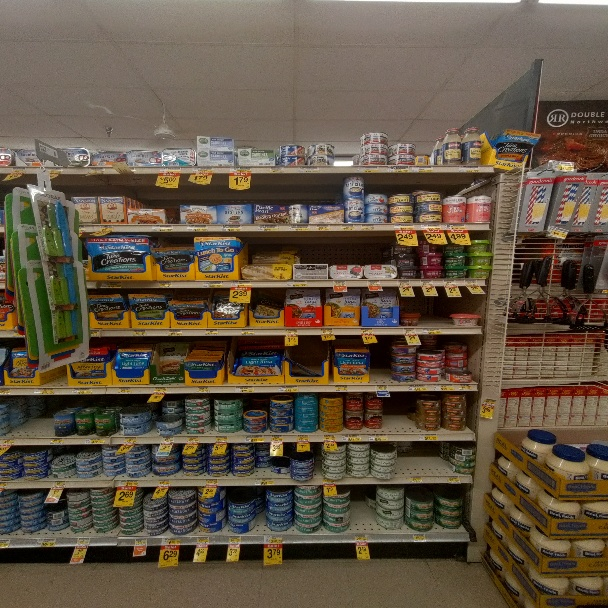All PRICE TAGS: (549, 226, 566, 237), (553, 162, 573, 170), (458, 165, 479, 172), (246, 435, 264, 442), (352, 534, 367, 542), (161, 167, 181, 173), (298, 167, 318, 173), (265, 536, 282, 543), (344, 433, 361, 440), (39, 540, 56, 547), (34, 388, 53, 394), (391, 167, 410, 173), (396, 224, 415, 230), (412, 534, 426, 542), (163, 537, 179, 544), (114, 387, 130, 394), (120, 479, 138, 485), (436, 385, 454, 391), (86, 438, 104, 444), (416, 167, 434, 173), (156, 225, 174, 231), (204, 281, 222, 287), (195, 536, 210, 543), (465, 278, 480, 285), (411, 384, 428, 390), (423, 328, 440, 334), (194, 166, 211, 172), (260, 225, 277, 231), (425, 224, 442, 230), (448, 223, 465, 229), (234, 281, 251, 287), (71, 388, 91, 393), (228, 536, 242, 543), (443, 279, 457, 286), (397, 279, 411, 286), (420, 279, 434, 286), (333, 385, 349, 391), (133, 330, 149, 336), (233, 167, 249, 173), (224, 225, 240, 231), (289, 281, 305, 287), (234, 386, 253, 391), (358, 167, 377, 172), (134, 538, 147, 545), (459, 384, 472, 391), (1, 438, 14, 445), (421, 434, 436, 440), (369, 434, 387, 439), (322, 434, 337, 440), (269, 434, 284, 440), (213, 436, 228, 442), (185, 436, 200, 442), (281, 386, 299, 391), (168, 330, 183, 336), (90, 168, 105, 174), (268, 166, 283, 172), (358, 224, 373, 230), (189, 226, 206, 231), (296, 434, 310, 440), (161, 436, 175, 442), (375, 385, 389, 391), (153, 387, 167, 393), (404, 328, 418, 334), (360, 328, 374, 334), (321, 328, 335, 334), (286, 329, 300, 335), (77, 538, 89, 545), (289, 226, 310, 230), (314, 224, 328, 230), (367, 280, 381, 286), (256, 479, 272, 484), (193, 387, 209, 392), (240, 330, 256, 335), (156, 282, 172, 287), (333, 280, 346, 286), (484, 398, 495, 405), (448, 476, 459, 483), (155, 479, 170, 484), (122, 437, 137, 442), (204, 330, 219, 335), (53, 481, 65, 487), (51, 438, 63, 444), (407, 477, 421, 482), (203, 479, 217, 484), (100, 226, 114, 231), (12, 168, 26, 173), (1, 539, 8, 548), (347, 224, 357, 230), (51, 168, 61, 173), (2, 389, 10, 395)
